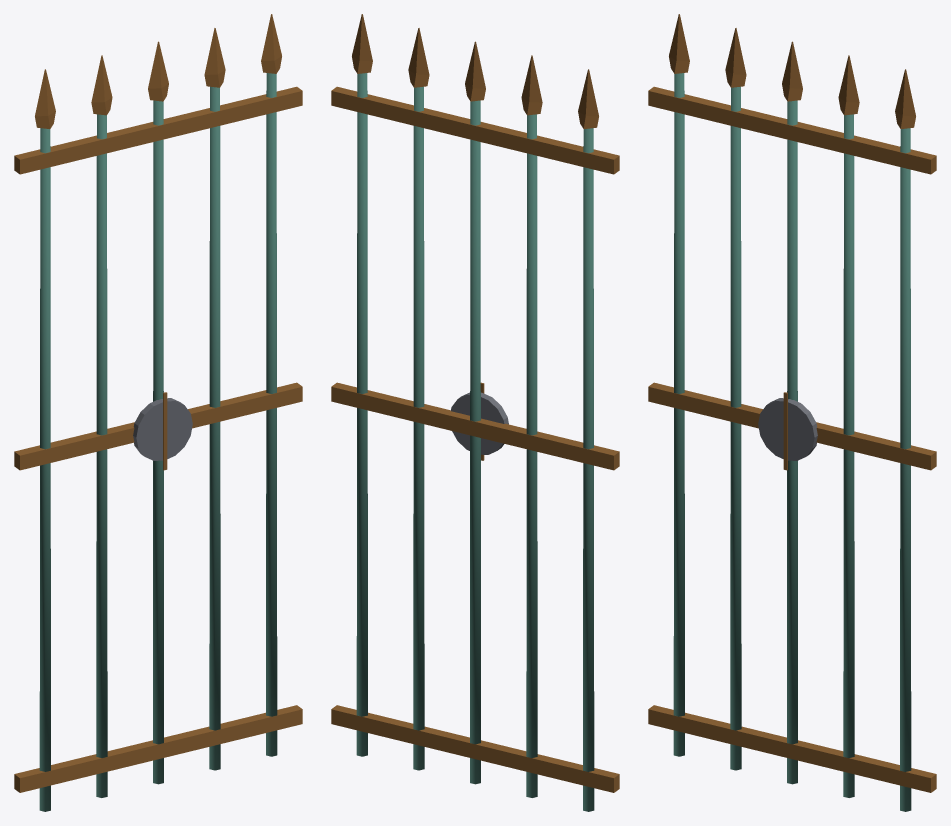
The model's file is gate.glb.
3 renders of one model, left to right at view 1: azimuth 30°, elevation 25°; view 2: azimuth 150°, elevation 25°; view 3: azimuth 330°, elevation 25°, orthographic.
Parts seen in each view (by area): view 1: Gate; view 2: Gate; view 3: Gate.
Boxes of the visible parts, <box> form: Gate: <box>14,14,302,811</box>; Gate: <box>331,14,619,811</box>; Gate: <box>648,14,936,811</box>.
Bounding box in the file's own units: 2 × 5 × 0.146.
